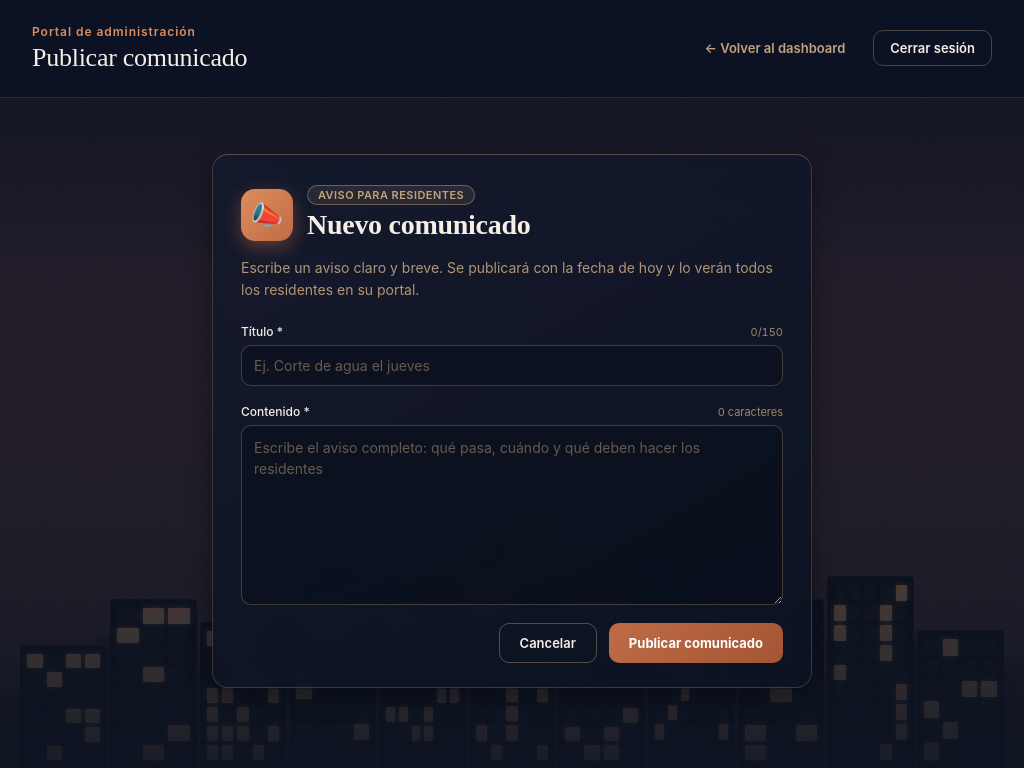
Test: CU-10 PublicarComunicadoPage › título y contenido son obligatorios
The image size is (1024, 768).
Click the button "Publicar comunicado": click(696, 643) [609,623,783,663]
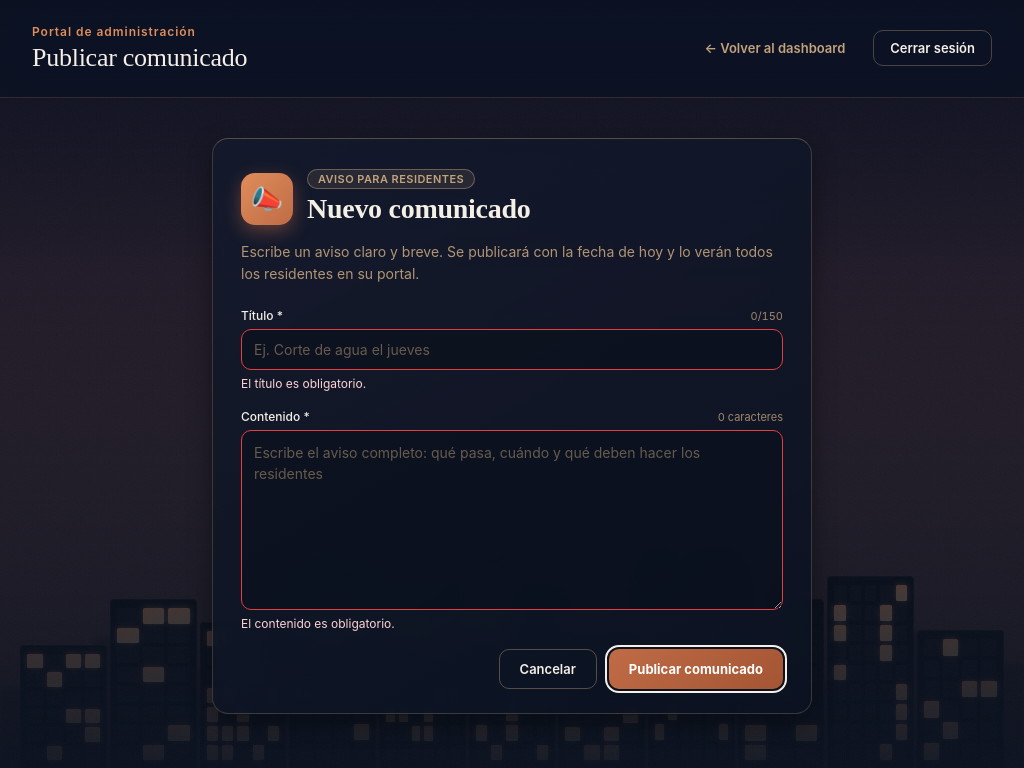
Result: the text "El título es obligatorio." is shown at [241,376,366,392]
Result: the text "El contenido es obligatorio." is shown at [241,616,395,632]
